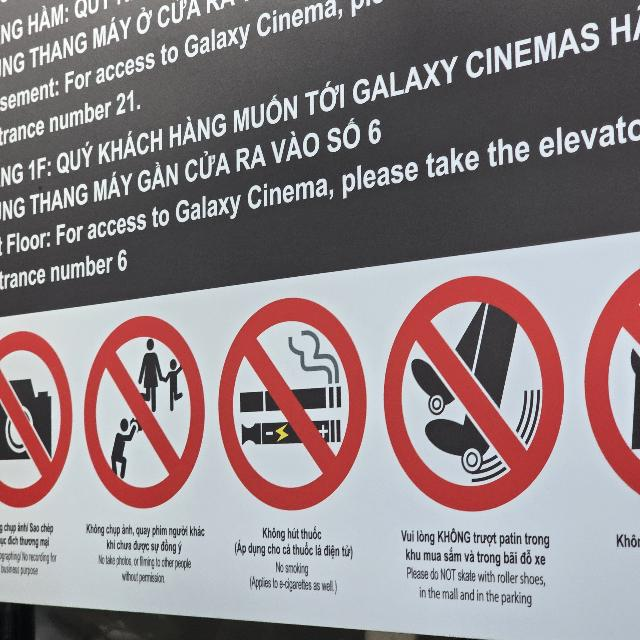cam hut thuoc: (219, 298, 366, 510)
